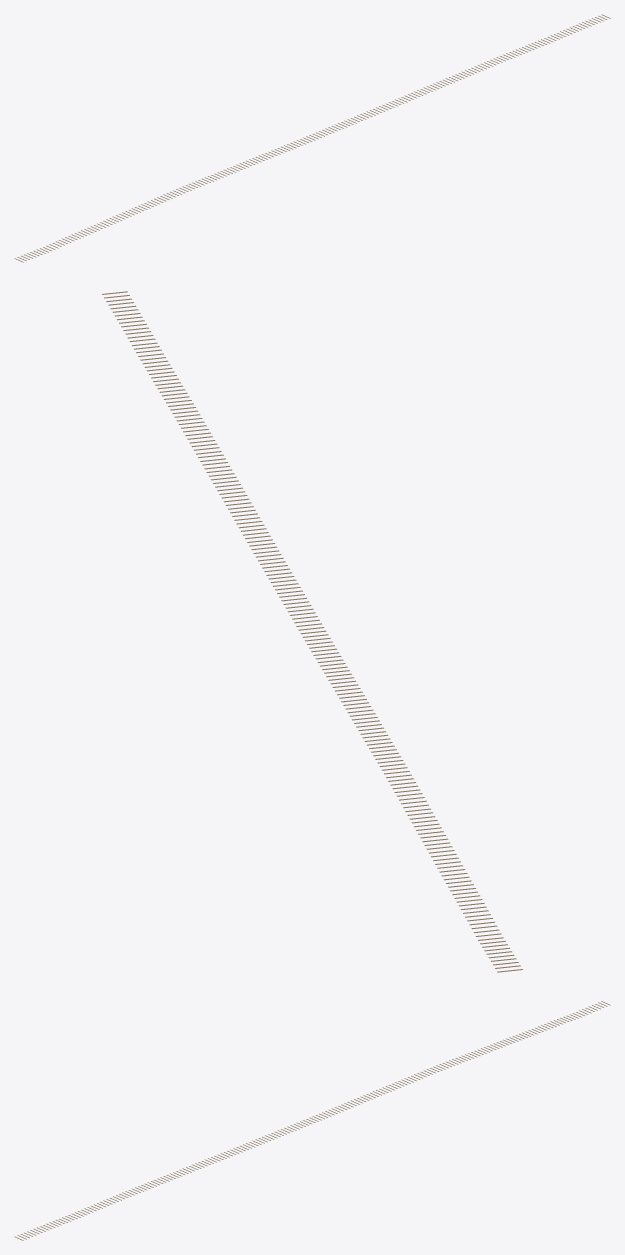
The model's file is c_1622_17824_rail_sleeper.glb.
3 renders of one model, top to bottom at view 1: azimuth 90°, elevation 25°; view 2: azimuth 150°, elevation 25°; view 3: azimuth 270°, elevation 25°, orthographic. The views are drawn at different scales.
Visible parts, largest first — view 1: geometry_0; view 2: geometry_0; view 3: geometry_0.
Boxes of the visible parts, x1=… form: geometry_0: x1=14, y1=14, x2=610, y2=262; geometry_0: x1=102, y1=291, x2=522, y2=972; geometry_0: x1=14, y1=1001, x2=610, y2=1240.
Bounding box in the file's own units: 105 × 0.9501 × 108.
